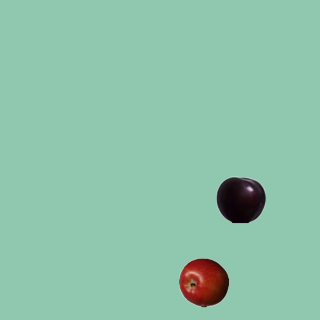Apple Braeburn: (178, 257, 228, 307)
Cherry Wax Black: (215, 174, 265, 224)
